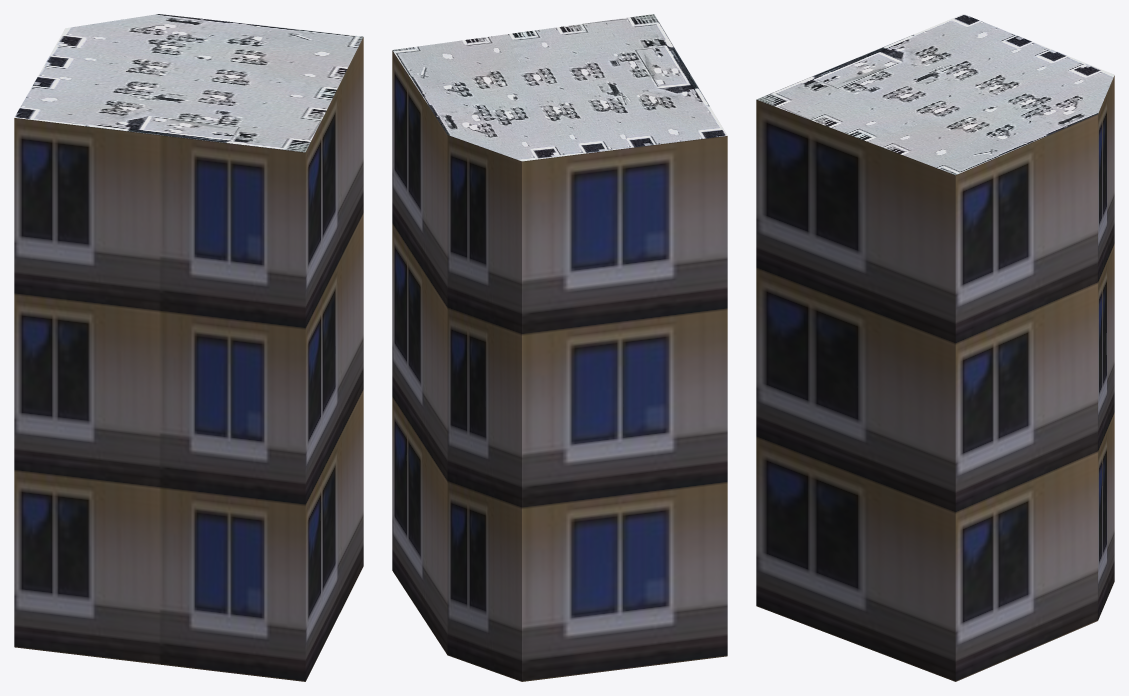
File: ResTex__4170.fbx
3 views of the same model, side by side, from view 1: azimuth 30°, elevation 25°; view 2: azimuth 150°, elevation 25°; view 3: azimuth 270°, elevation 25° (orthographic). The views are drawn at different scales.
Visible parts, largest first — view 1: CityEngineMaterial_5_m, CityEngineMaterial_4_m; view 2: CityEngineMaterial_5_m, CityEngineMaterial_4_m; view 3: CityEngineMaterial_5_m, CityEngineMaterial_4_m.
Boxes of the visible parts, x1,y1,x2,y2 form: CityEngineMaterial_5_m: [14, 37, 363, 681]; CityEngineMaterial_4_m: [14, 14, 363, 152]; CityEngineMaterial_5_m: [392, 50, 727, 681]; CityEngineMaterial_4_m: [392, 14, 727, 161]; CityEngineMaterial_5_m: [756, 75, 1114, 681]; CityEngineMaterial_4_m: [756, 14, 1114, 175].
Size of the model in its own units: 6.14 by 9 by 5.77.
2 materials, 2 textured.
